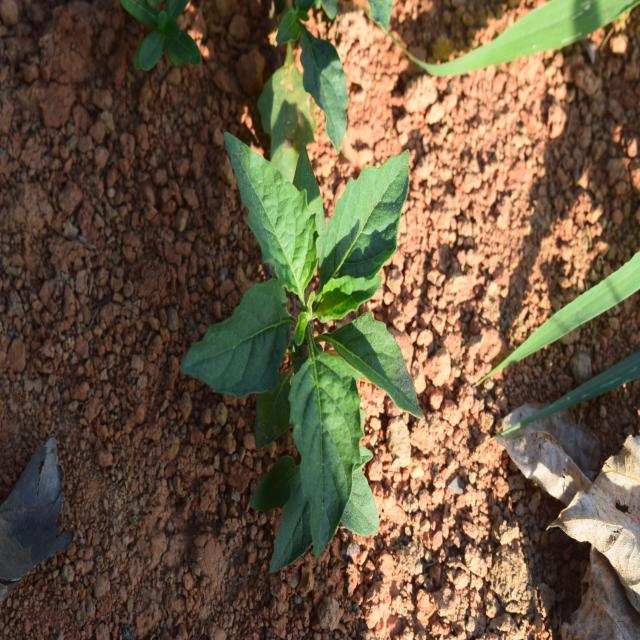Black_nightshade: (214, 146, 414, 552)
